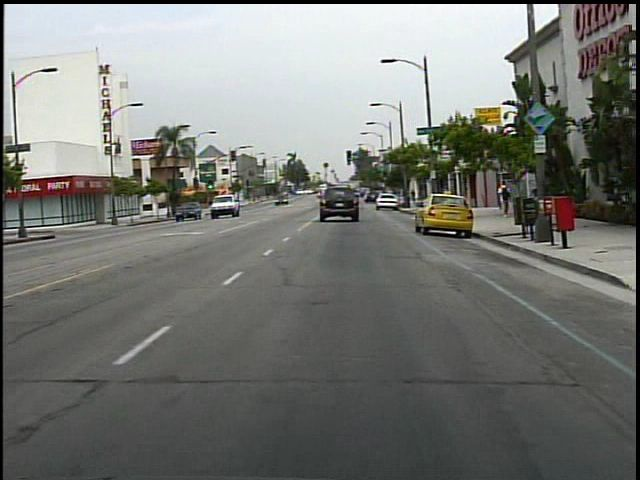person: (494, 175, 513, 220)
